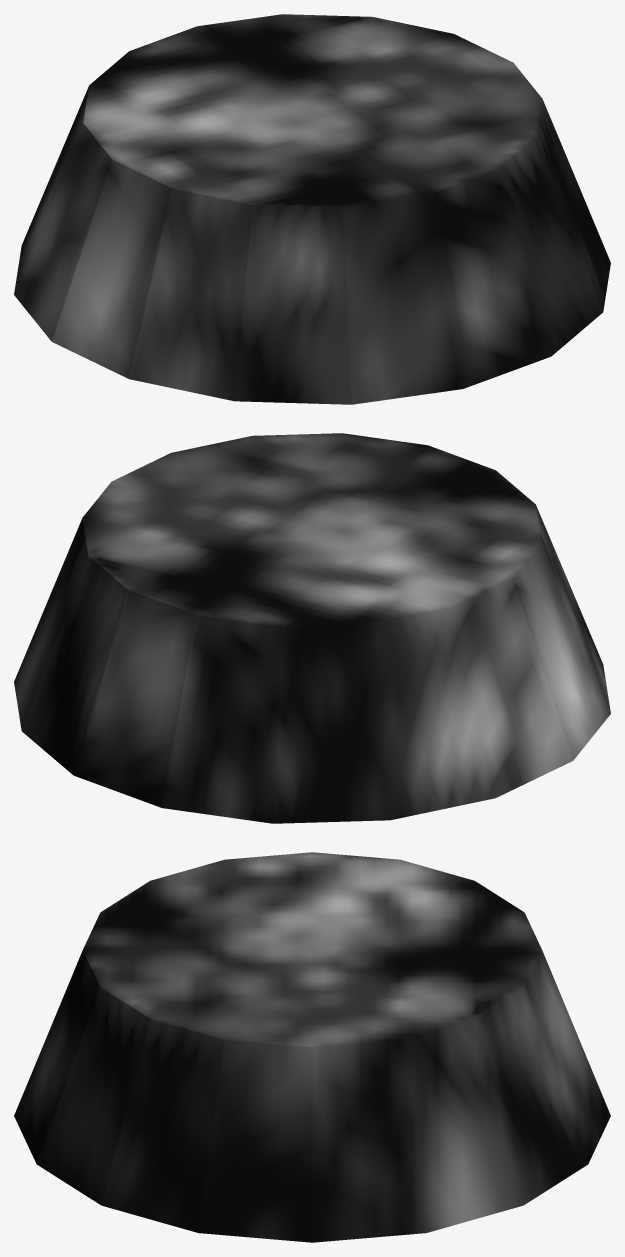
File: New LED Housing.fbx
3 renders of one model, top to bottom at view 1: azimuth 30°, elevation 25°; view 2: azimuth 150°, elevation 25°; view 3: azimuth 270°, elevation 25°, orthographic.
Parts seen in each view (by area): view 1: FE-LEDBase006; view 2: FE-LEDBase006; view 3: FE-LEDBase006.
Part boxes in pixels (<box>): FE-LEDBase006: <box>14,14,610,404</box>; FE-LEDBase006: <box>14,433,610,823</box>; FE-LEDBase006: <box>14,852,610,1242</box>.
Size of the model in its own units: 10.82 by 3.35 by 10.82.
Materials: 1 (1 with a texture image).
